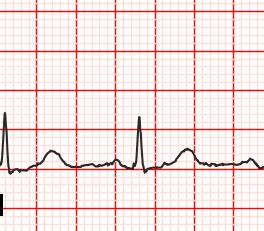LVH: (169, 142, 206, 170), (35, 146, 76, 170)
